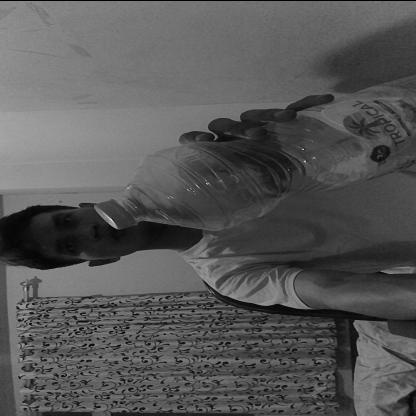plastic_bottles: (93, 79, 416, 230)
